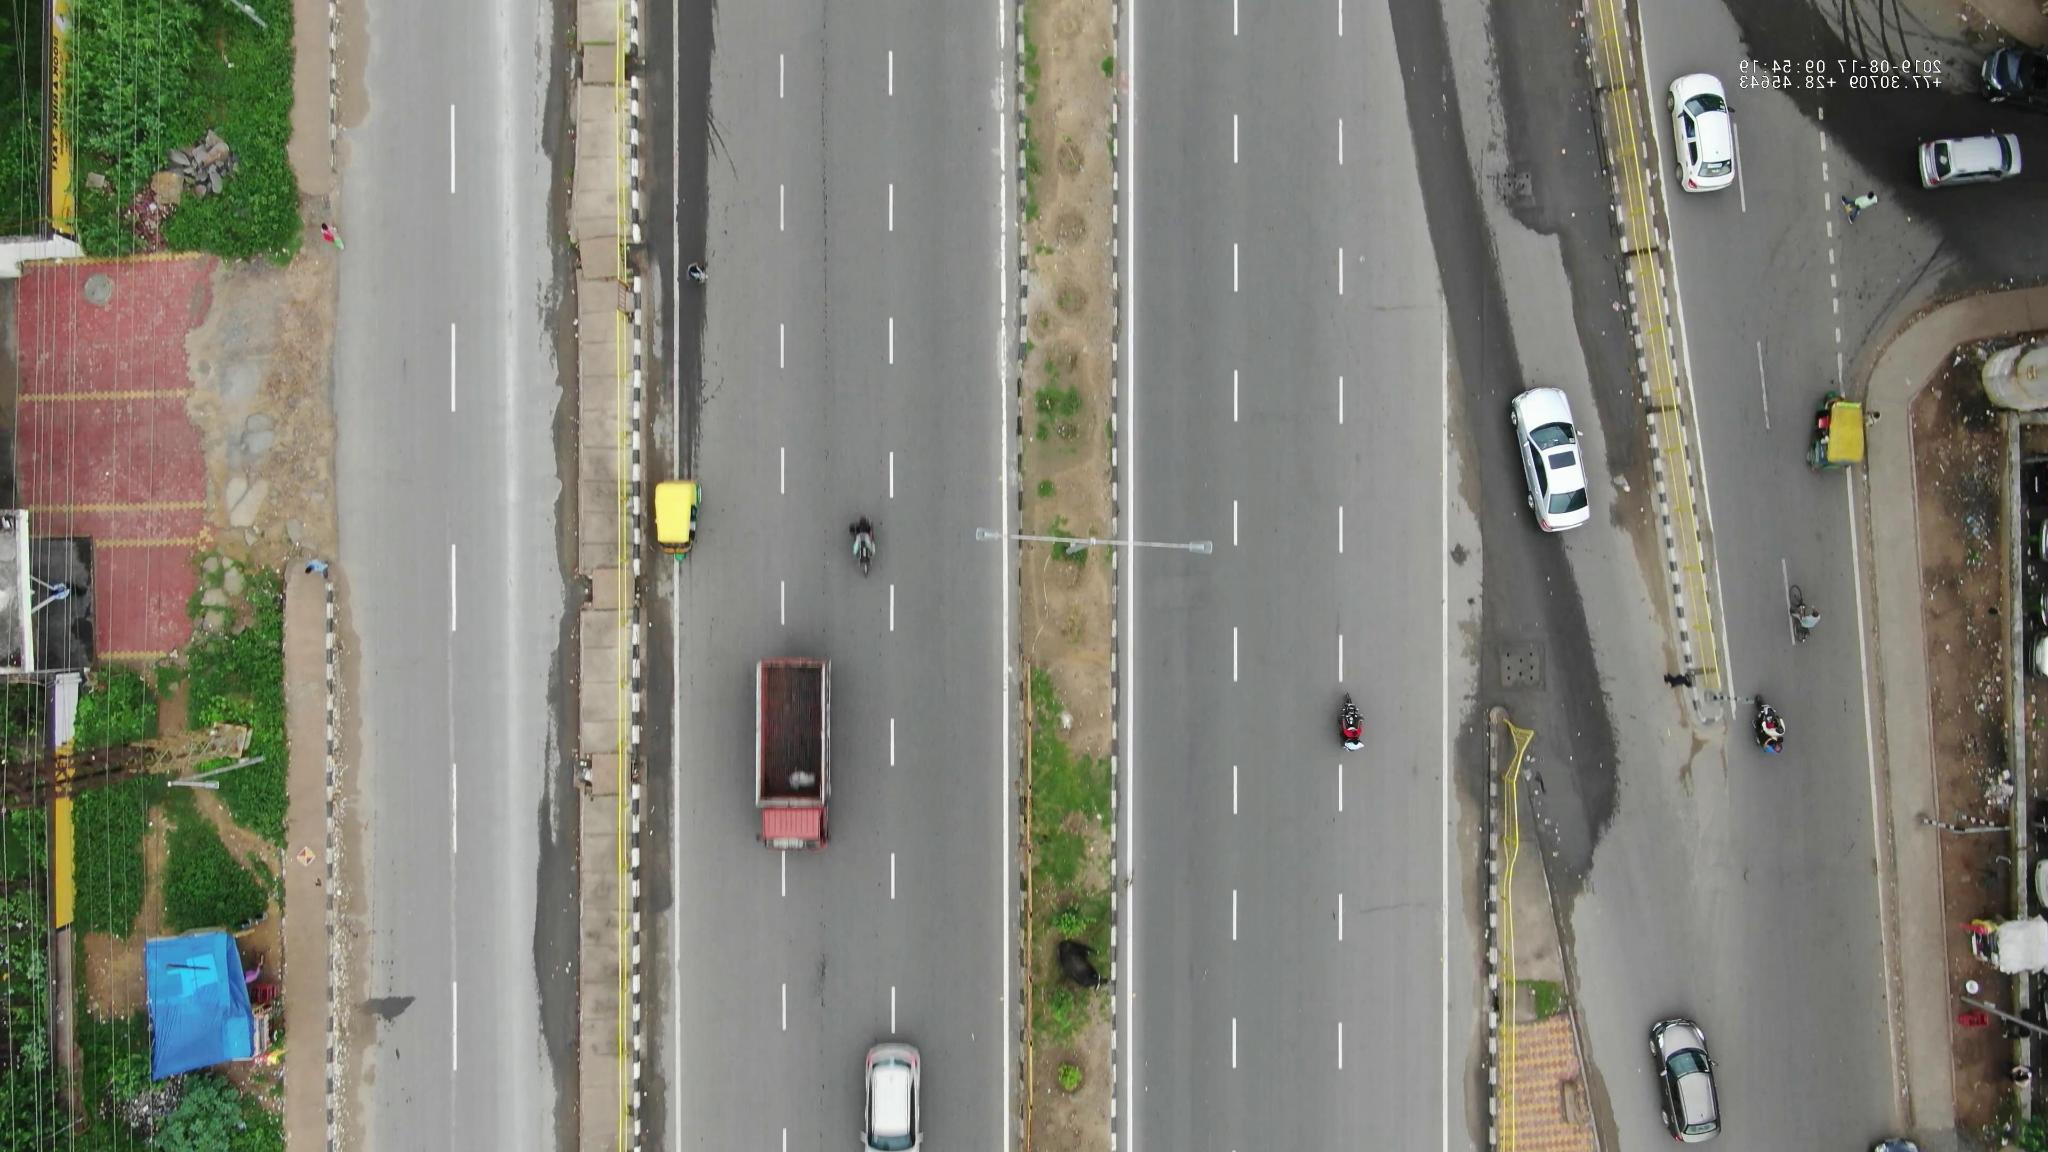Muddy_road: (329, 4, 377, 127)
